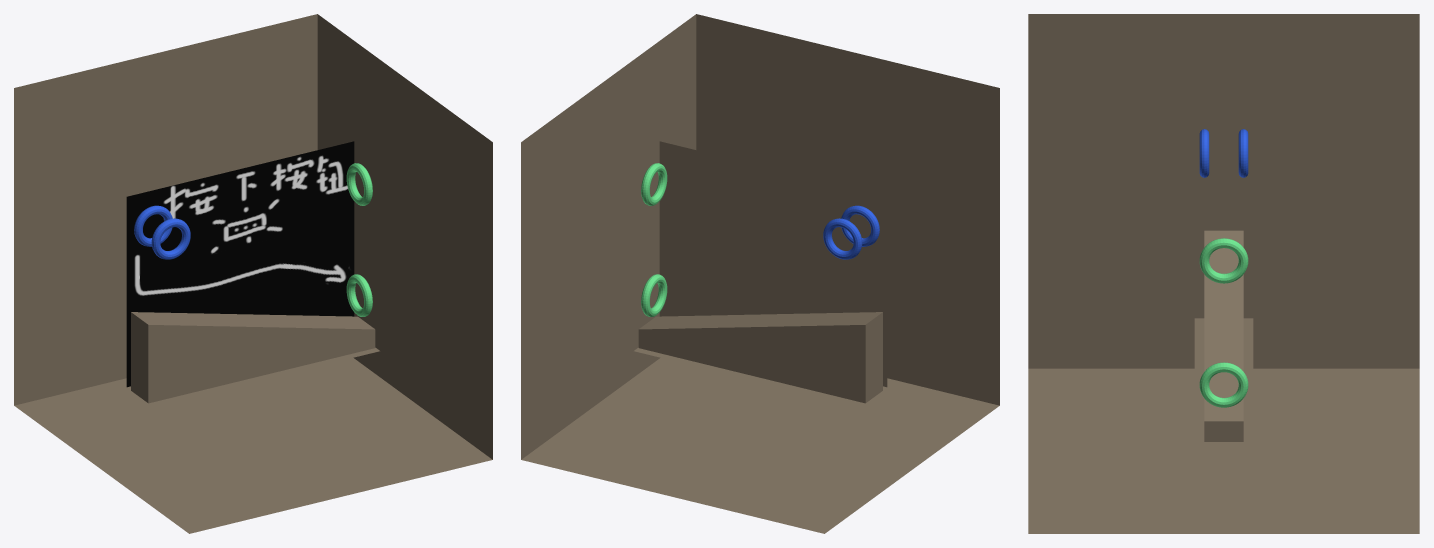
Rendered from Level.glb.
3 views of the same model, side by side, from view 1: azimuth 30°, elevation 25°; view 2: azimuth 150°, elevation 25°; view 3: azimuth 270°, elevation 25° (orthographic). The views are drawn at different scales.
Parts seen in each view (by area): view 1: Cube.001, Plane.004, Cube, Plane.006, Plane.009, spawn.003, destination.003, destination.001, spawn.001; view 2: Cube.001, Plane.005, Cube, Plane.006, Plane.009, spawn.001, destination.003, destination.001, spawn.003; view 3: Cube.001, Plane.007, Cube, Plane.009, destination.003, destination.001, spawn.001, spawn.003.
Part boxes in pixels (x1,y1,x2,y2): Cube.001: [14, 14, 492, 533]; Plane.004: [126, 141, 354, 387]; Cube: [131, 312, 375, 403]; Plane.006: [354, 141, 380, 350]; Plane.009: [127, 347, 379, 406]; spawn.003: [151, 218, 190, 259]; destination.003: [346, 163, 372, 205]; destination.001: [346, 274, 372, 316]; spawn.001: [134, 205, 172, 246]; Cube.001: [521, 14, 999, 533]; Plane.005: [659, 141, 887, 387]; Cube: [638, 312, 882, 403]; Plane.006: [633, 141, 659, 350]; Plane.009: [634, 347, 886, 406]; spawn.001: [823, 218, 862, 259]; destination.003: [641, 163, 667, 205]; destination.001: [641, 274, 667, 316]; spawn.003: [841, 205, 879, 246]; Cube.001: [1028, 14, 1419, 533]; Plane.007: [1194, 105, 1253, 318]; Cube: [1204, 230, 1243, 441]; Plane.009: [1194, 318, 1253, 442]; destination.003: [1199, 238, 1248, 283]; destination.001: [1199, 362, 1248, 407]; spawn.001: [1238, 129, 1248, 177]; spawn.003: [1199, 129, 1209, 177].
Size of the model in its own units: 20 by 20 by 20.
Materials: 6 (3 with a texture image).
